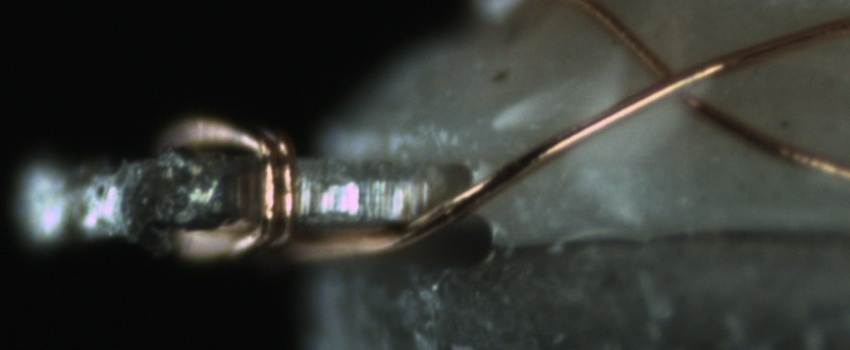CL: (626, 47, 723, 118)
TE: (164, 113, 314, 253)
